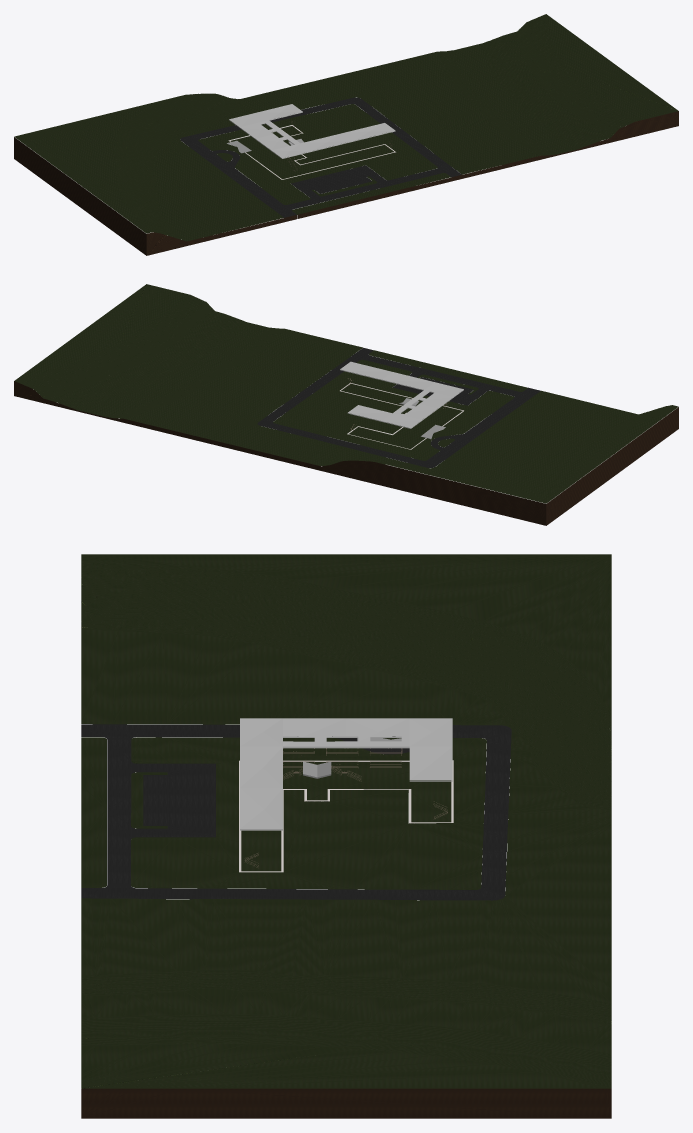
Rendered from rac_advanced.glb.
3 views of the same model, one above another, from view 1: azimuth 30°, elevation 25°; view 2: azimuth 150°, elevation 25°; view 3: azimuth 270°, elevation 25° (orthographic). The views are drawn at different scales.
Visible parts, largest first — view 1: 表面 (×2), 子面域, Concrete Deck - Tapered Insulation; view 2: 表面 (×2), 子面域, Concrete Deck - Tapered Insulation; view 3: 表面 (×2), 子面域, Concrete Deck - Tapered Insulation, Slab Edge.
Part boxes in pixels (bbox=[...]): 表面 (×2): bbox=[14, 14, 678, 255]; 子面域: bbox=[180, 97, 461, 222]; Concrete Deck - Tapered Insulation: bbox=[229, 104, 395, 158]; 表面 (×2): bbox=[14, 284, 678, 525]; 子面域: bbox=[257, 347, 540, 467]; Concrete Deck - Tapered Insulation: bbox=[340, 361, 463, 428]; 表面 (×2): bbox=[81, 554, 611, 1118]; 子面域: bbox=[81, 724, 511, 900]; Concrete Deck - Tapered Insulation: bbox=[240, 718, 452, 830]; Slab Edge: bbox=[239, 760, 453, 871].
Bounding box in the file's own units: 310 × 14.38 × 134.
10 materials, 3 textured.
